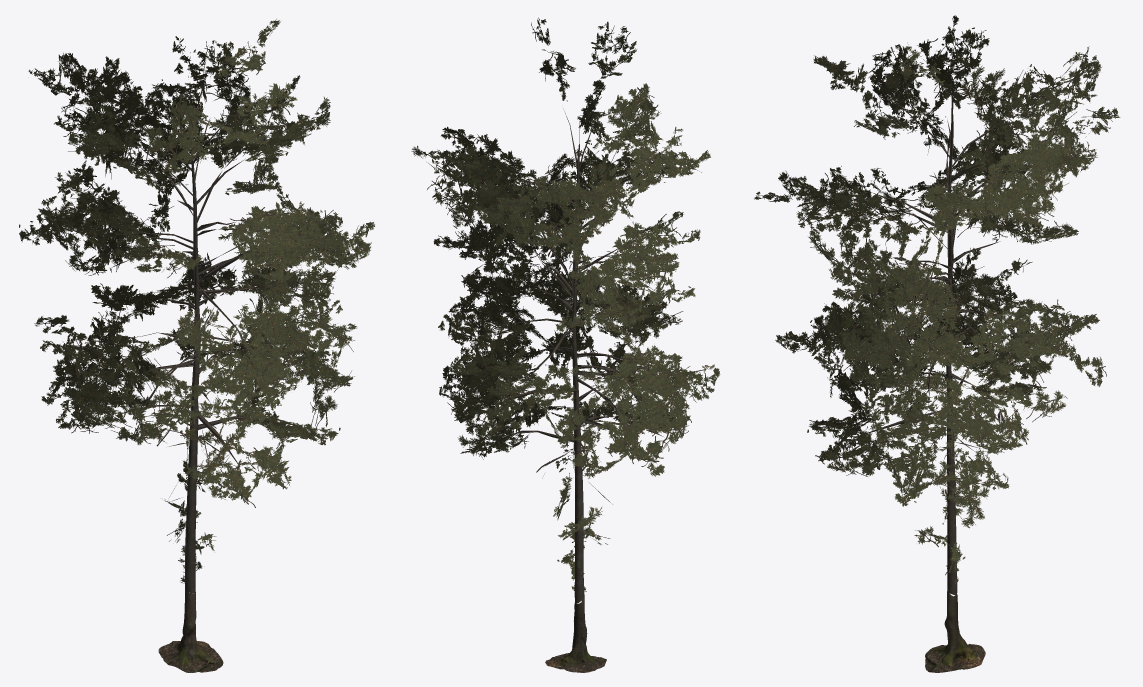
3 views of the same model, side by side, from view 1: azimuth 30°, elevation 25°; view 2: azimuth 150°, elevation 25°; view 3: azimuth 270°, elevation 25° (orthographic). The views are drawn at different scales.
Parts seen in each view (by area): view 1: pine_tree_01__b_lod1; view 2: pine_tree_01__b_lod1; view 3: pine_tree_01__b_lod1.
Part boxes in pixels (box(x1,y1,x2,y2)): pine_tree_01__b_lod1: box(19, 19, 374, 672); pine_tree_01__b_lod1: box(411, 17, 720, 672); pine_tree_01__b_lod1: box(754, 15, 1120, 672).
Size of the model in its own units: 7.35 by 14.9 by 7.75.
Materials: 3 (3 with a texture image).
